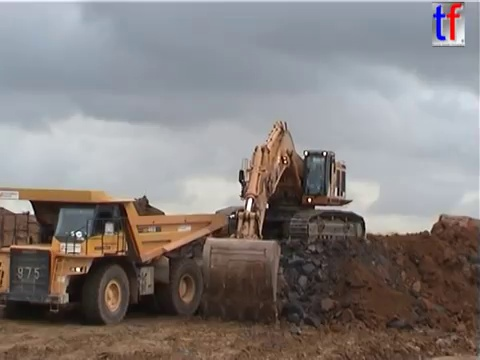excavator: (198, 117, 368, 325)
truck: (1, 185, 230, 328), (436, 212, 480, 247)
